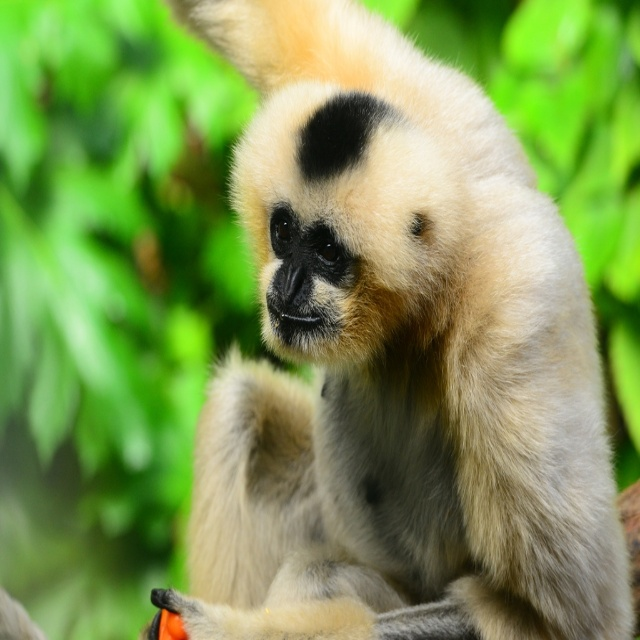Monkey: (137, 0, 640, 640)
